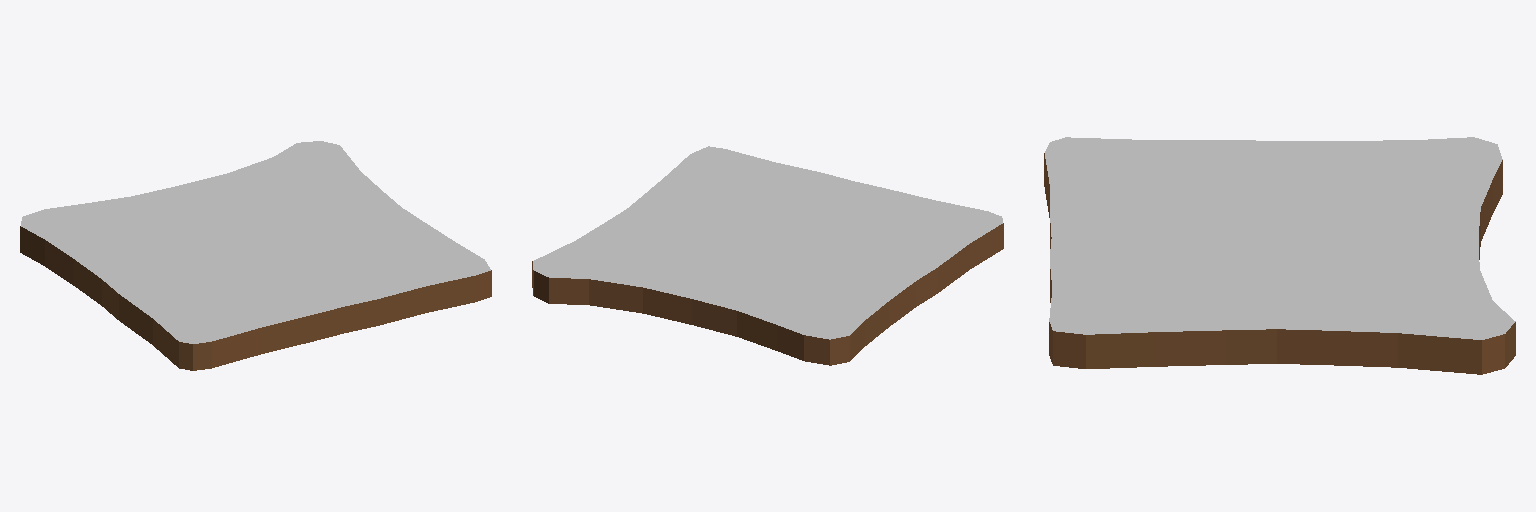
robot.urdf — toast:
<?xml version="1.0"?>
<robot name="toast">
	<link name="toast">
		<collision>
			<geometry>
				<mesh filename="toast.stl"/>
			</geometry>
		</collision>
		<visual>
			<geometry>
				<mesh filename="toast.dae"/>
			</geometry>
		</visual>
	</link>
</robot>

--- Render facts (derived) ---
Views: 3 orthographic renders of the robot side by side, from view 1: azimuth 30°, elevation 25°; view 2: azimuth 150°, elevation 25°; view 3: azimuth 270°, elevation 25°.
Model toast with 1 links and 0 joints (none), rooted at toast, posed all joints at 0.
Links seen in each view (by area): view 1: toast; view 2: toast; view 3: toast.
Link boxes in pixels (<box>): toast: <box>20,141,491,370</box>; toast: <box>532,146,1003,365</box>; toast: <box>1044,137,1515,374</box>.
Size in the robot's own frame: 1.01 by 0.9871 by 0.08 metres.
1 mesh visuals loaded from 1 distinct referenced files (1 Collada DAE).